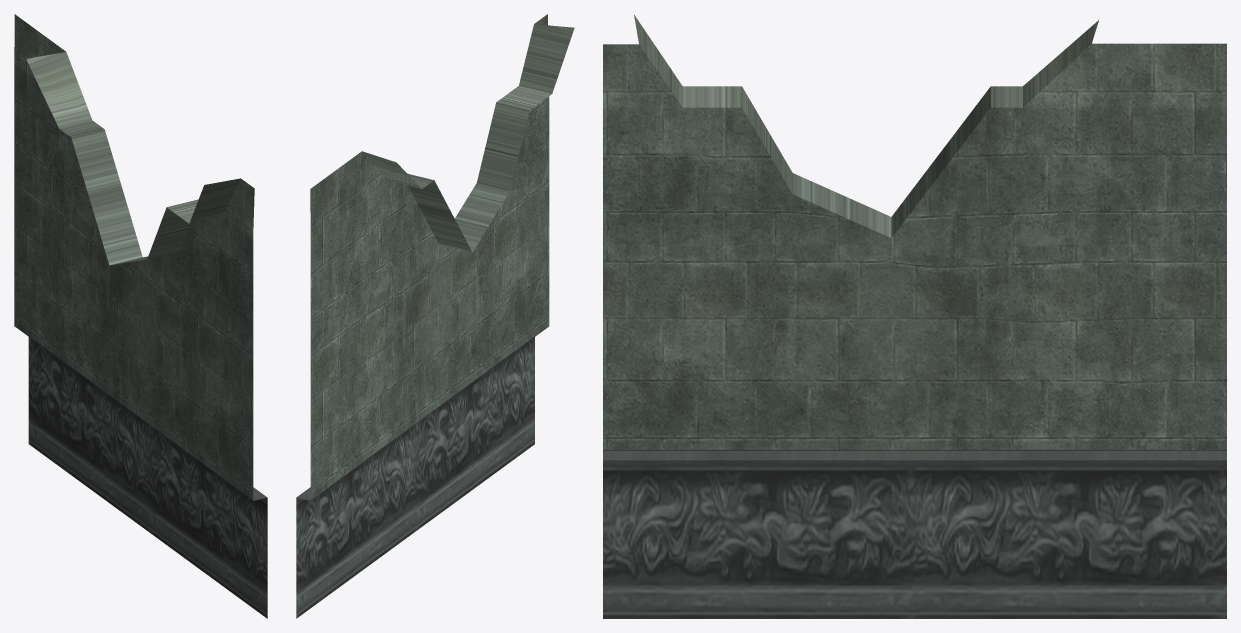
File: Wall_16_2.FBX
3 renders of one model, left to right at view 1: azimuth 30°, elevation 25°; view 2: azimuth 150°, elevation 25°; view 3: azimuth 270°, elevation 25°, orthographic. The views are drawn at different scales.
Visible parts, largest first — view 1: Plane001; view 2: Plane001; view 3: Plane001.
Boxes of the visible parts, left/top/right/bottom form: Plane001: left=14, top=14, right=267, bottom=618; Plane001: left=296, top=14, right=574, bottom=618; Plane001: left=603, top=15, right=1226, bottom=618.
Size of the model in its own units: 0.1246 by 1.01 by 0.9989.
